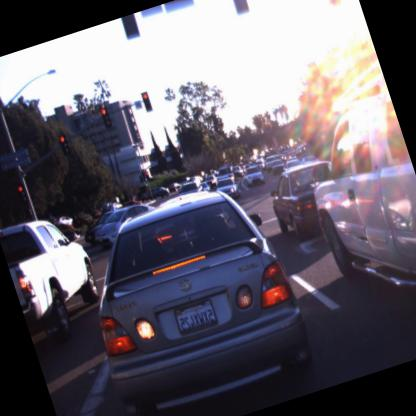trafficlight: (15, 182, 31, 209), (57, 132, 72, 157), (100, 106, 113, 130), (141, 90, 154, 113), (176, 146, 184, 156), (145, 172, 151, 182)
